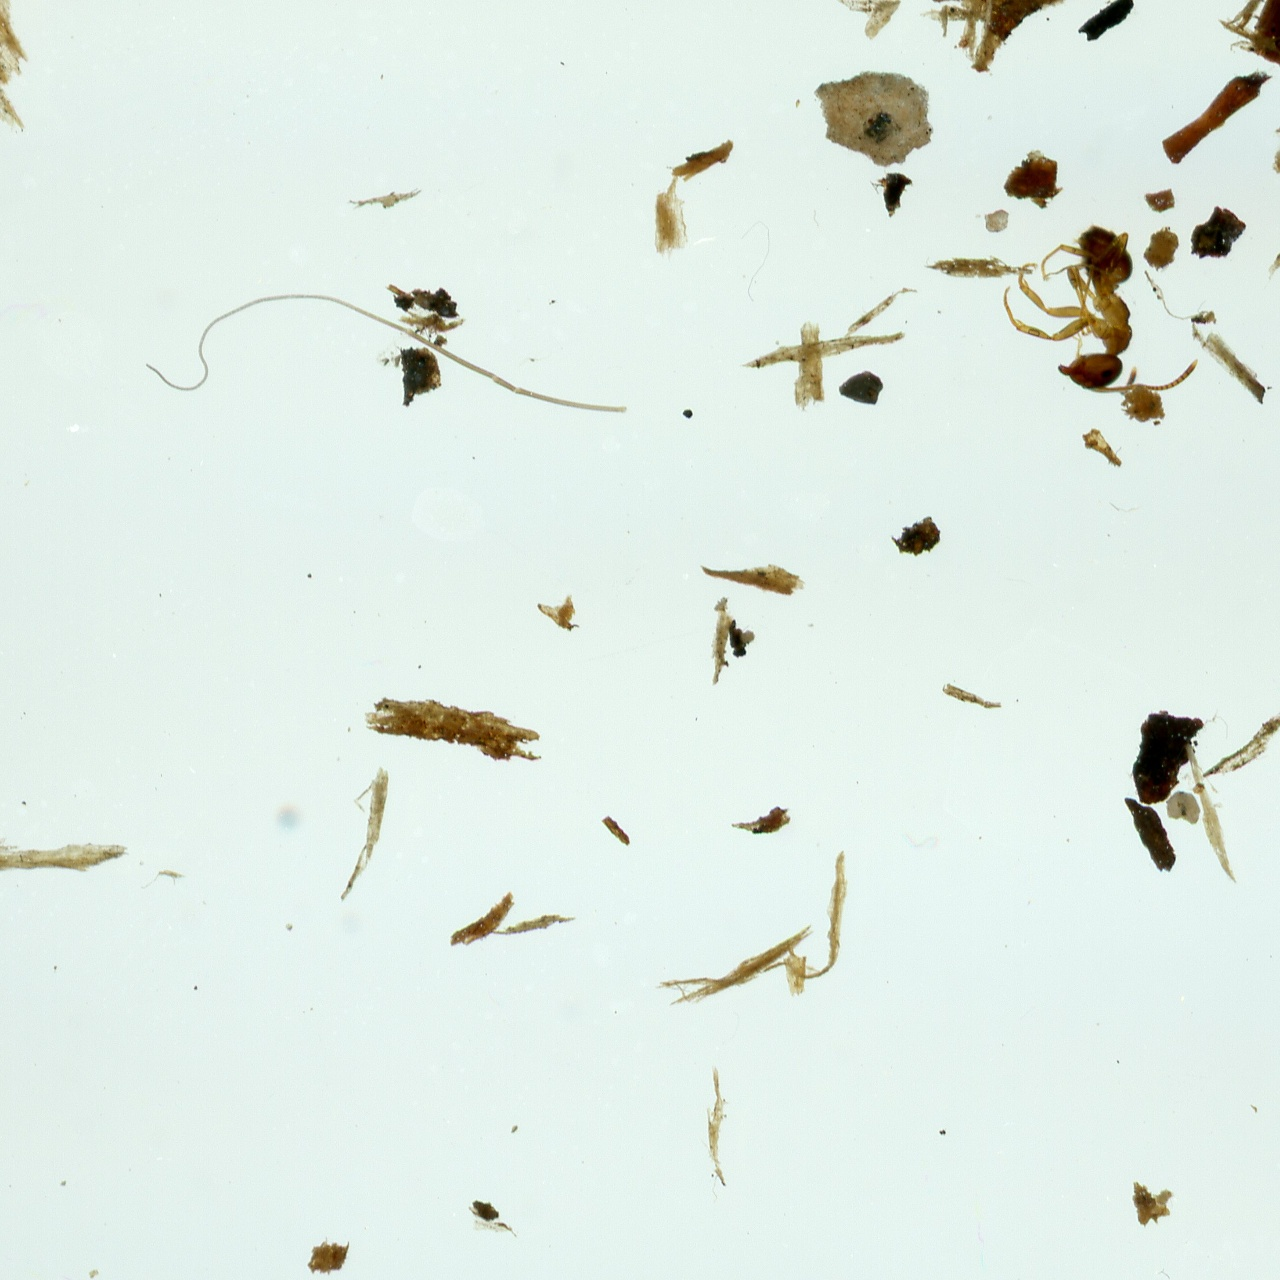arthropod: (1000, 219, 1202, 397)
